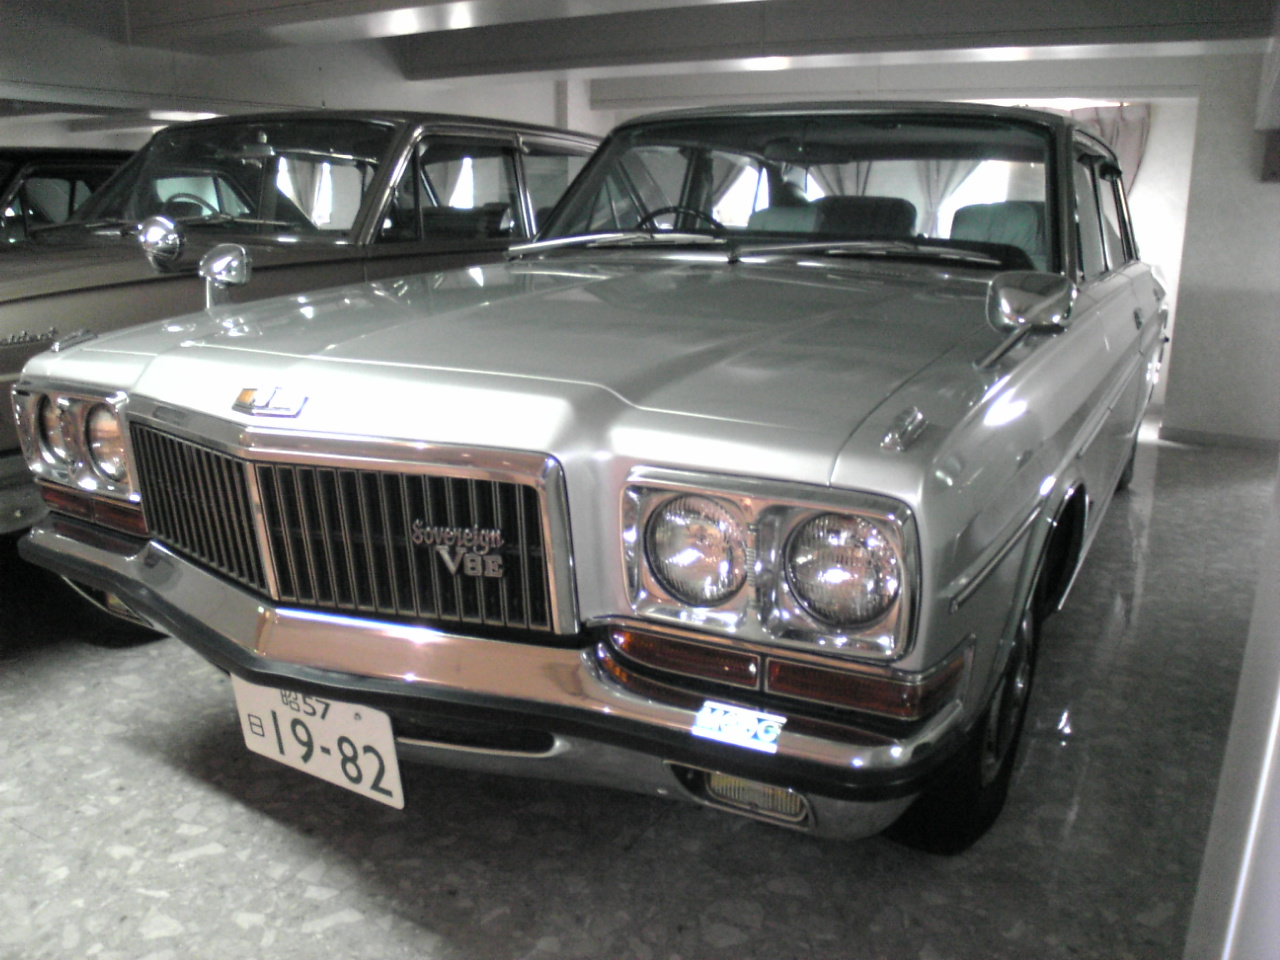plate: (229, 670, 407, 813)
